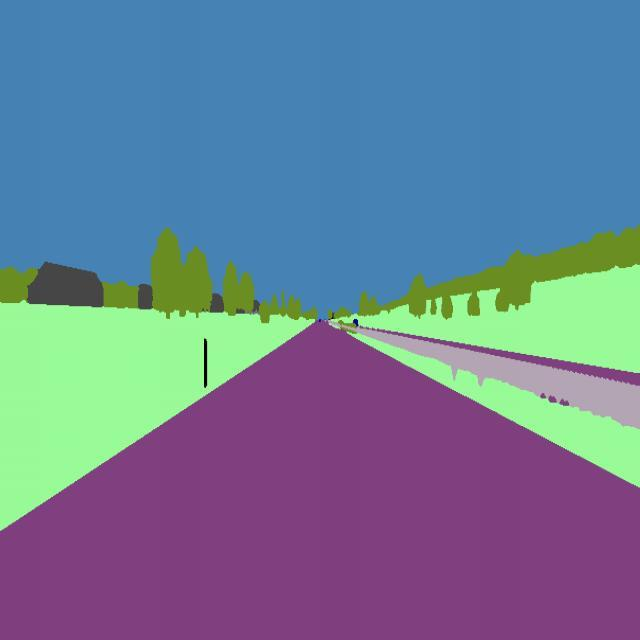safe: (352, 316, 362, 334)
